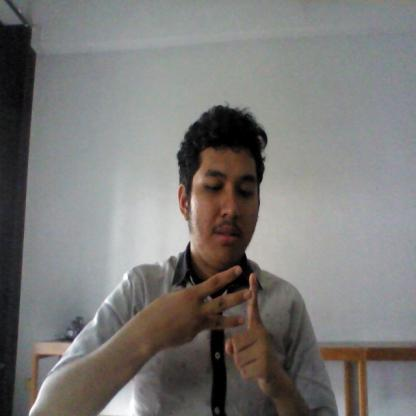B: (170, 264, 286, 392)
